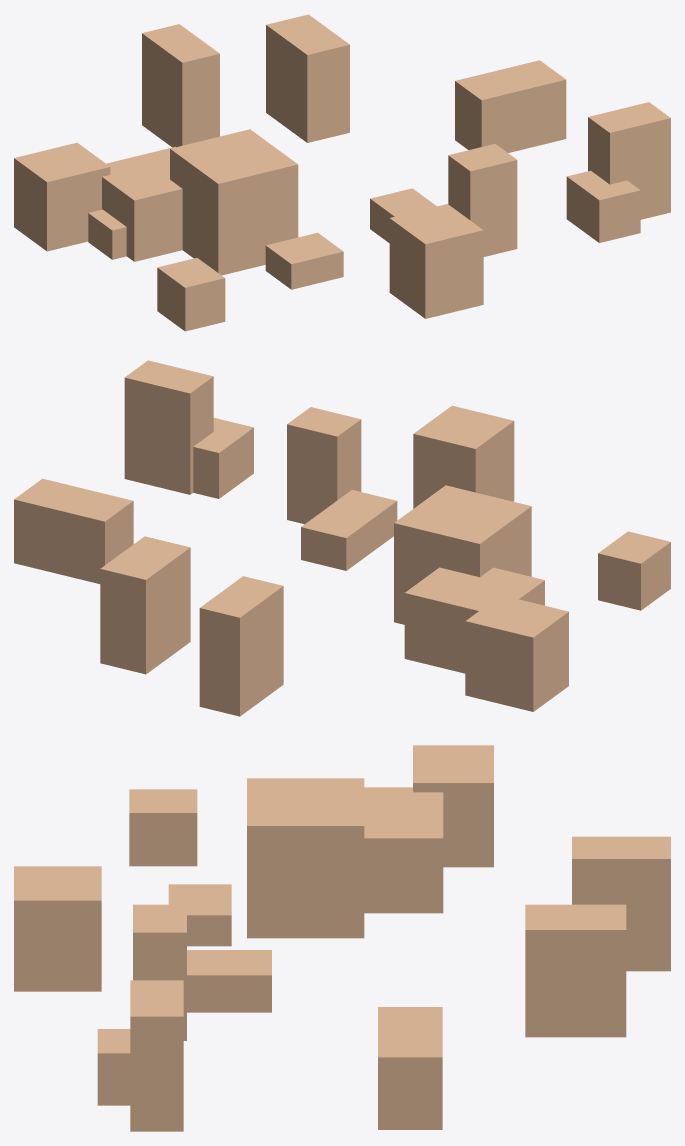
3 views of the same model, one above another, from view 1: azimuth 30°, elevation 25°; view 2: azimuth 150°, elevation 25°; view 3: azimuth 270°, elevation 25° (orthographic). The views are drawn at different scales.
Bounding box in the file's own units: 176 × 31.32 × 162.
